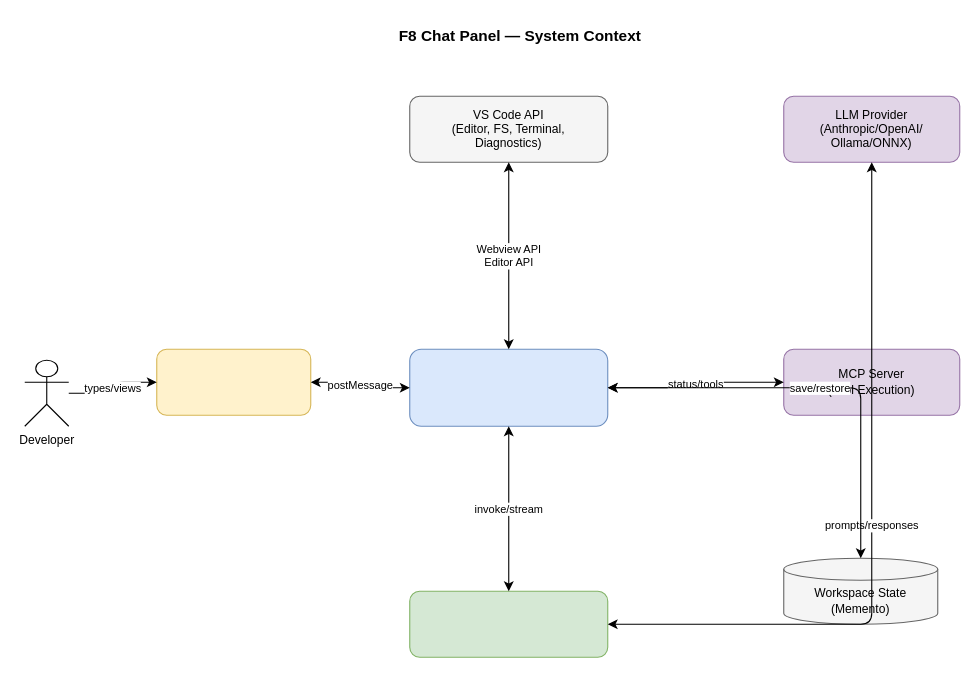
Some shapes in this 979 by 677 pixel diagram are drawn without their labels. Each missing label, with the box of its shape:
Chat Panel (WebviewViewProvider): (409, 348, 608, 426)
LangGraph Engine (Pipeline + Chat): (409, 590, 608, 657)
Webview Frontend (HTML/CSS/JS): (156, 348, 311, 415)
